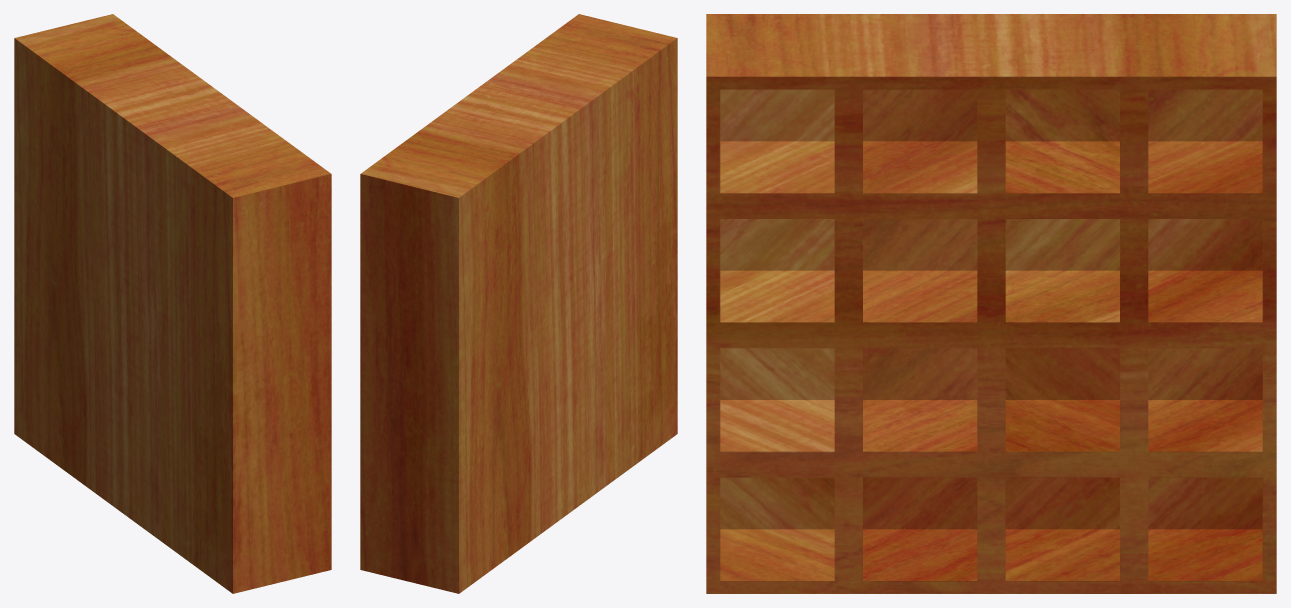
Rendered from scrollShelf 1.fbx.
3 views of the same model, side by side, from view 1: azimuth 30°, elevation 25°; view 2: azimuth 150°, elevation 25°; view 3: azimuth 270°, elevation 25° (orthographic). The views are drawn at different scales.
Visible parts, largest first — view 1: Cube; view 2: Cube; view 3: Cube.
Boxes of the visible parts, bbox=[...] form: Cube: bbox=[14, 14, 331, 593]; Cube: bbox=[360, 14, 677, 593]; Cube: bbox=[706, 14, 1276, 593].
Bounding box in the file's own units: 50.95 × 196 × 196.
